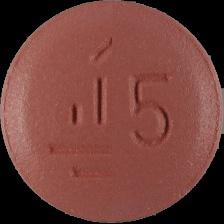55154-0410: (0, 0, 224, 224)
